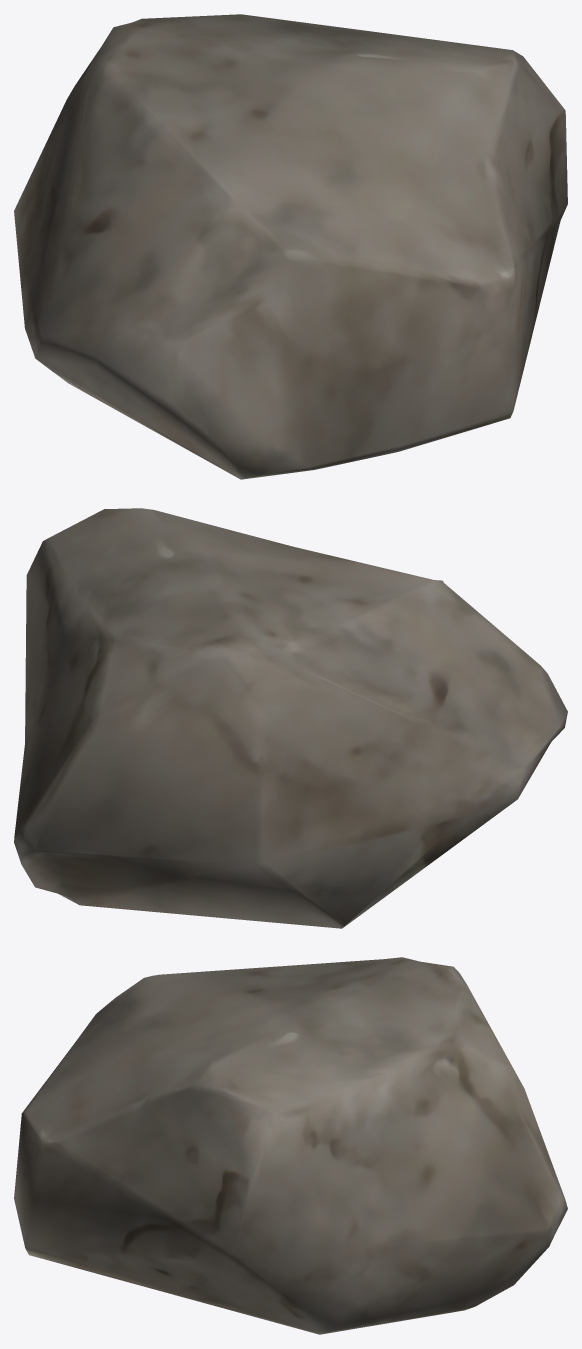
Rendered from rock-1.glb.
3 views of the same model, one above another, from view 1: azimuth 30°, elevation 25°; view 2: azimuth 150°, elevation 25°; view 3: azimuth 270°, elevation 25° (orthographic). The views are drawn at different scales.
Visible parts, largest first — view 1: rock_1_Plane.009; view 2: rock_1_Plane.009; view 3: rock_1_Plane.009.
Part boxes in pixels (<box>): rock_1_Plane.009: <box>14,14,567,479</box>; rock_1_Plane.009: <box>14,508,567,928</box>; rock_1_Plane.009: <box>14,957,567,1334</box>.
Bounding box in the file's own units: 1.65 × 0.9545 × 1.69.
1 material, 1 textured.
